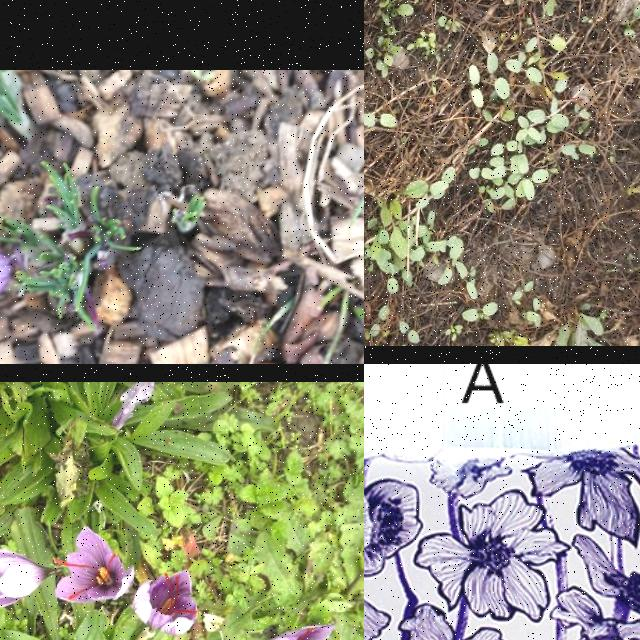flower: (54, 526, 134, 604), (134, 570, 196, 636), (0, 550, 53, 609), (259, 623, 336, 640)
